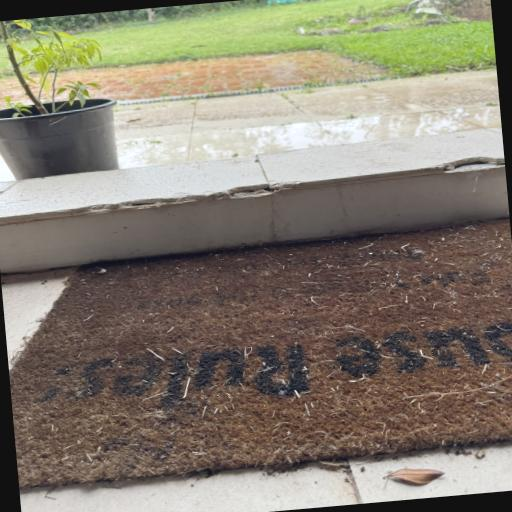step: (0, 129, 509, 273)
